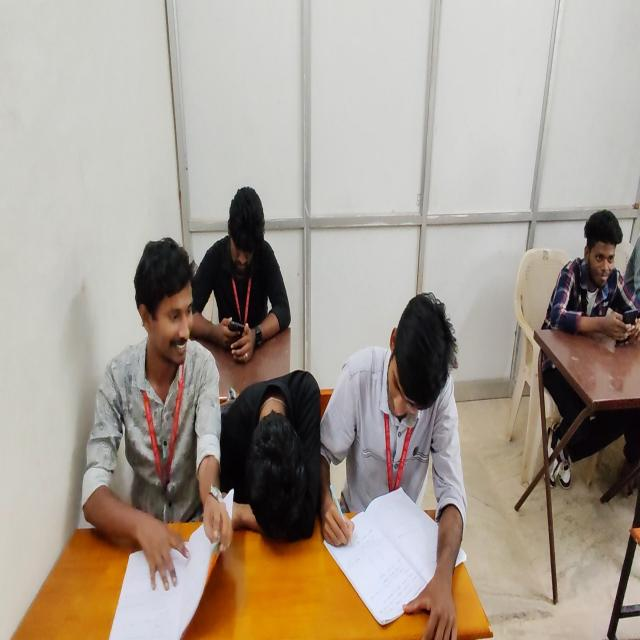sleeping: (222, 365, 329, 564)
turning: (77, 236, 234, 640)
using_mobile: (189, 170, 296, 358), (534, 190, 640, 378)
writing: (318, 265, 471, 640)
